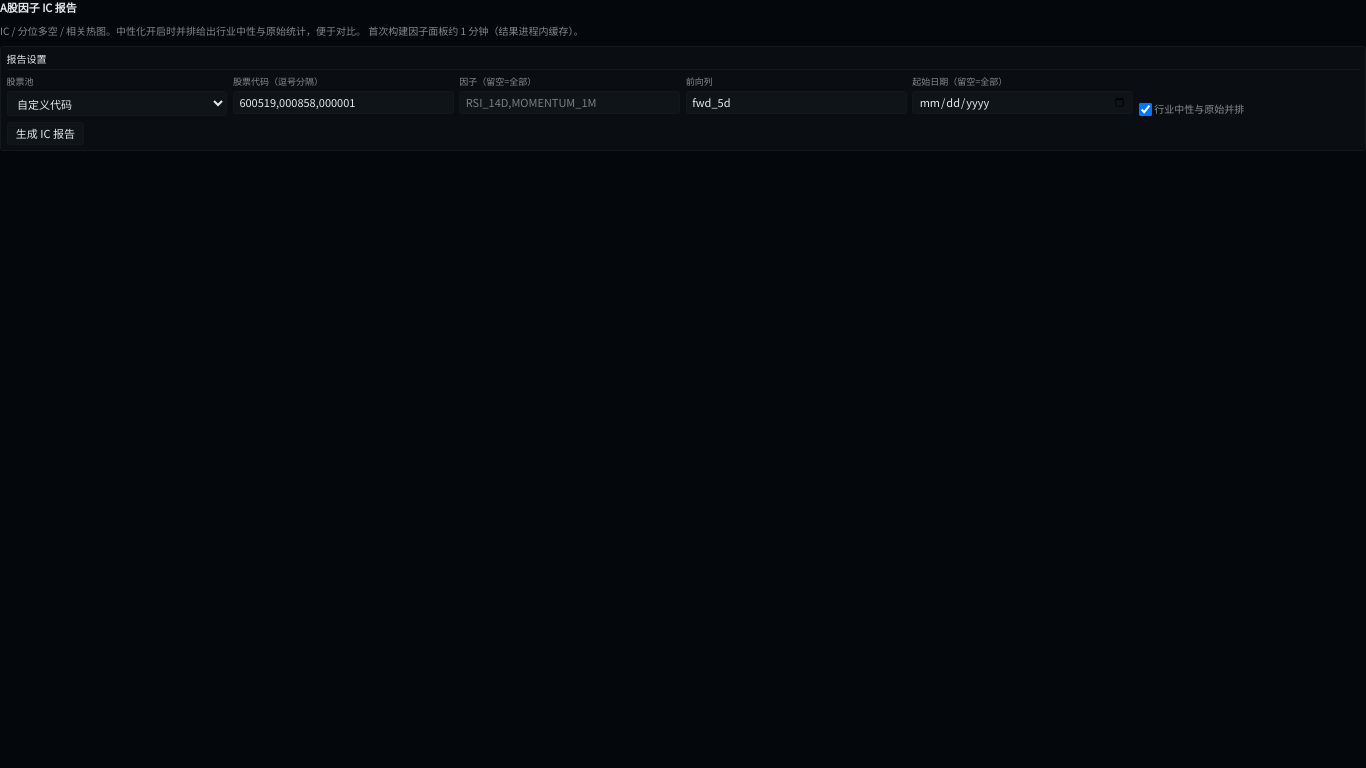
Test: AshareFactorReportPage › 中性化开关:默认并排显示 *_neutral 列
Click the button "生成 IC 报告" at [45, 133], box 6,122 -> 84,145
(page scrolled)
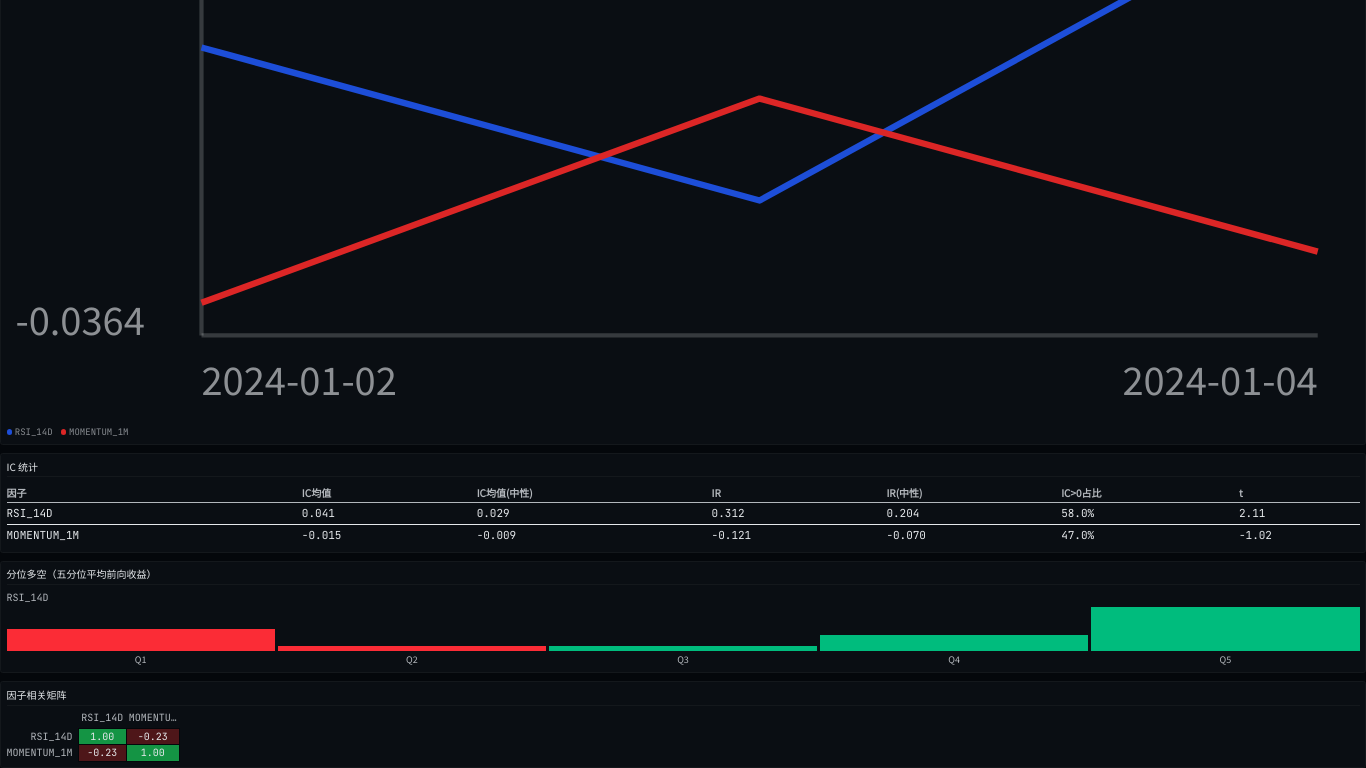
Result: the column heading "IC均值(中性)" is shown at 477,483 -> 712,503
Result: the column heading "IR(中性)" is shown at 886,483 -> 1061,503
